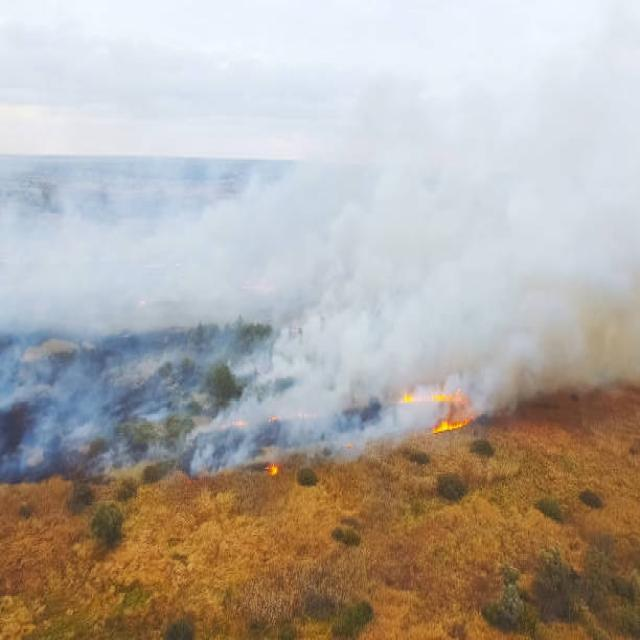Fire: (402, 384, 472, 434), (266, 459, 280, 478)
Smoke: (0, 0, 640, 436)
